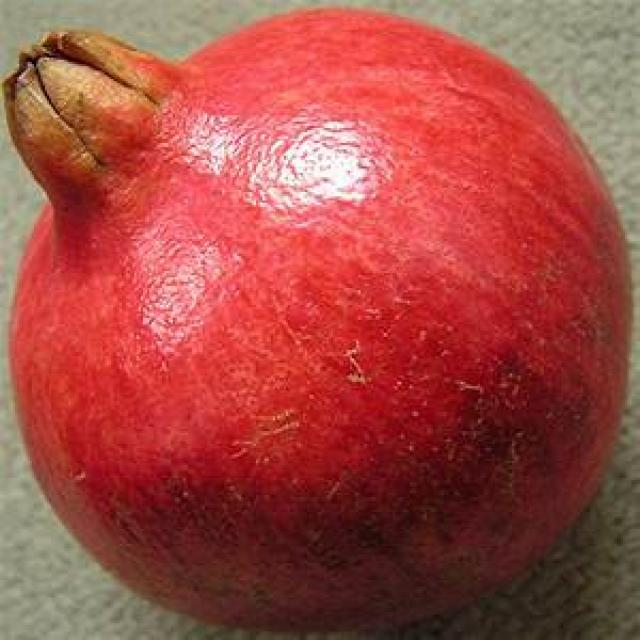Pomegranate: (3, 6, 634, 636)
